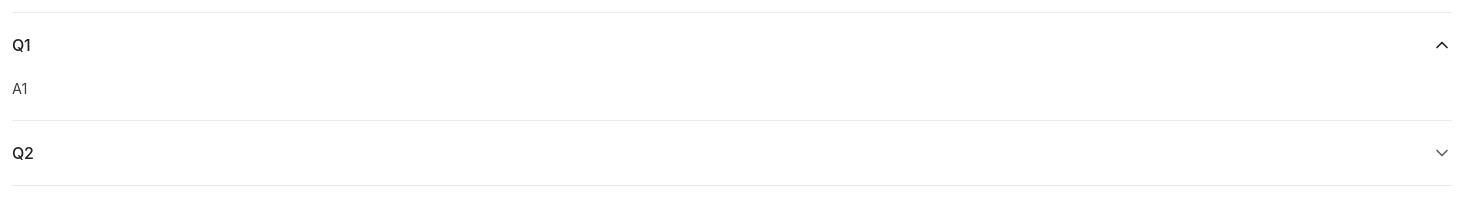
Test: Tonal primitives & blocks › toggles TonalAccordion items with aria-expanded
What coordinates should you click on to do the following:
click the button "Q2"
I would click on:
 (23, 153)
Its box is [12,121,1452,185].
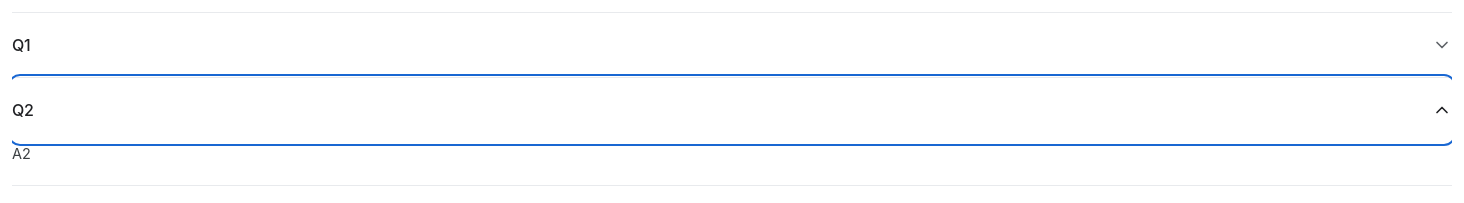
Now the button "Q1" is collapsed, box [12,13,1452,77]
Now the button "Q2" is expanded, box [12,78,1452,142]
